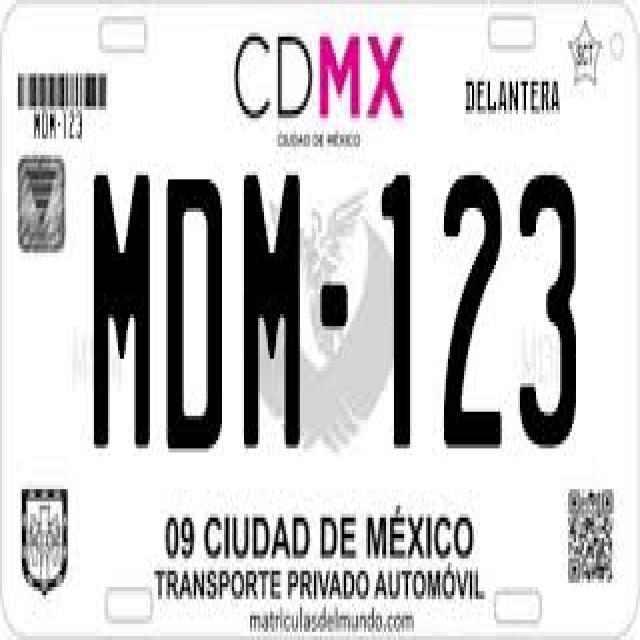placa: (65, 149, 629, 472)
